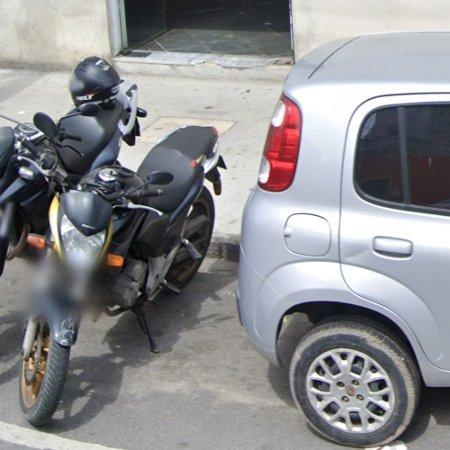motorcycles: (18, 126, 225, 427), (0, 57, 140, 274)
